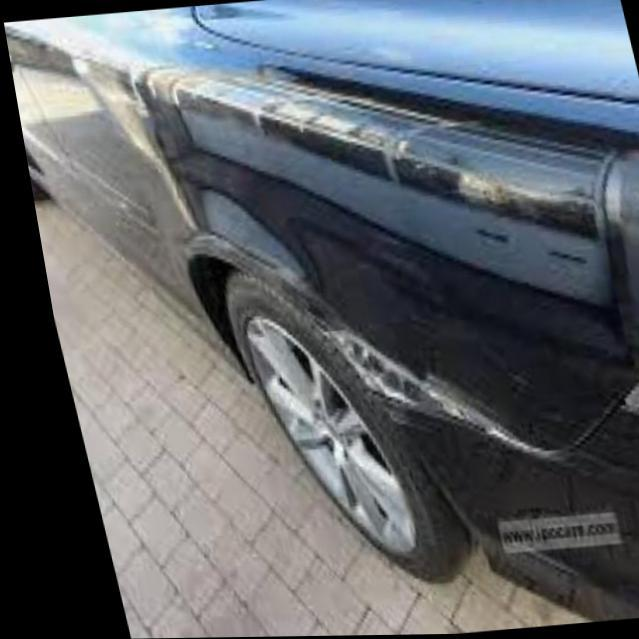dislocated part: (314, 315, 564, 490)
